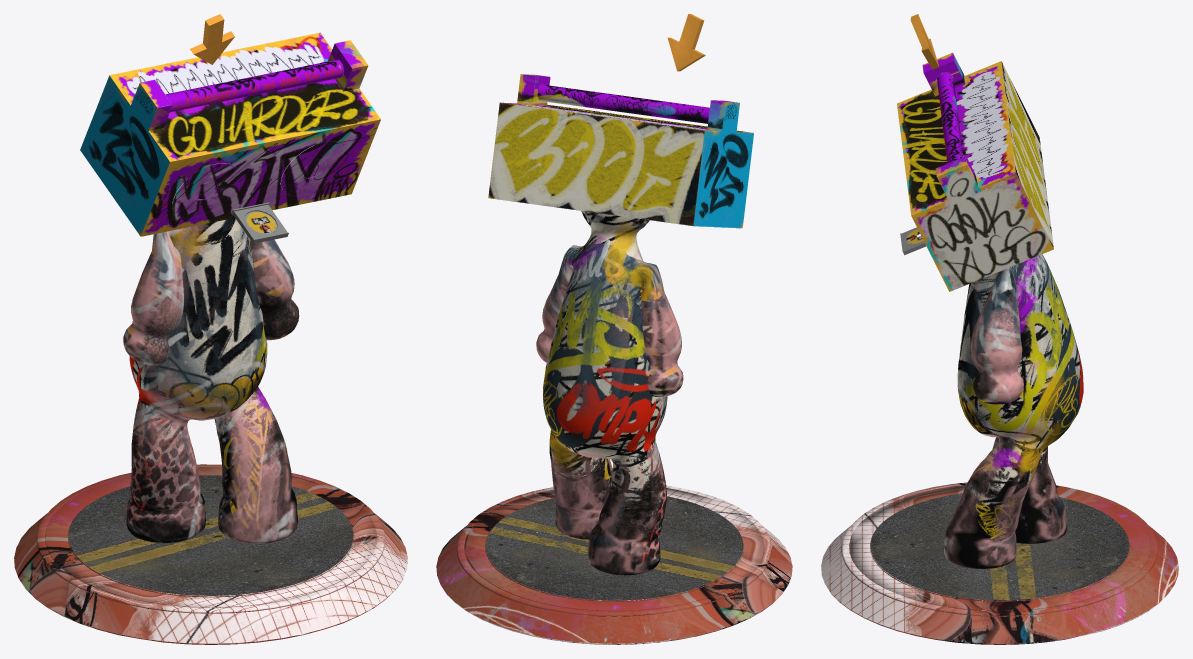
3 renders of one model, left to right at view 1: azimuth 30°, elevation 25°; view 2: azimuth 150°, elevation 25°; view 3: azimuth 270°, elevation 25°, orthographic. The views are drawn at different scales.
Parts seen in each view (by area): view 1: BBody; view 2: BBody; view 3: BBody.
Boxes of the visible parts, x1,y1,x2,y2 form: BBody: (14,14,407,644); BBody: (436,14,792,644); BBody: (821,14,1178,644).
Size of the model in its own units: 1.45 by 2.39 by 1.45.
Materials: 9 (6 with a texture image).
